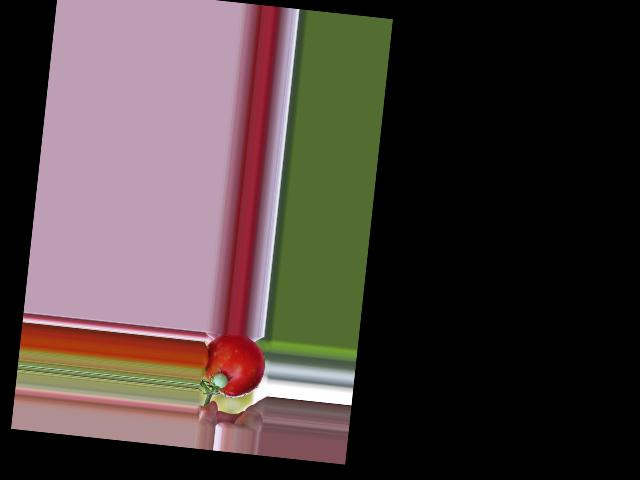tomato: (202, 331, 267, 400)
